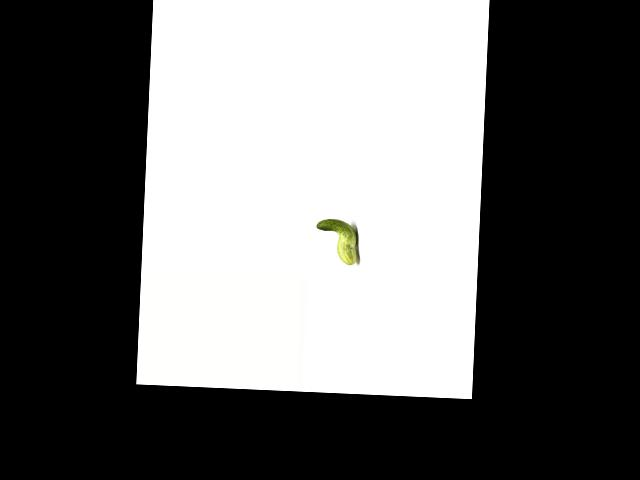cucumber: (315, 217, 359, 265)
